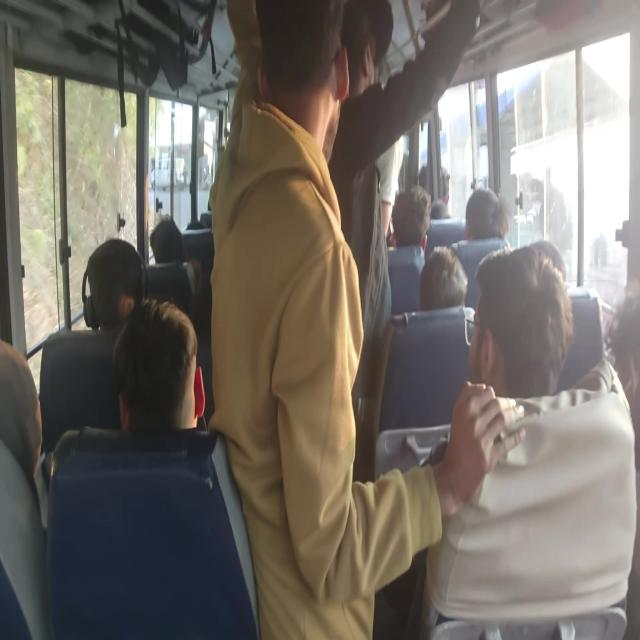person: (207, 0, 527, 638), (420, 241, 637, 638), (45, 296, 259, 638), (326, 1, 401, 483), (467, 243, 575, 400), (0, 338, 50, 638), (111, 296, 206, 432), (81, 237, 148, 332), (418, 244, 468, 310), (389, 184, 431, 250), (462, 187, 508, 241), (148, 214, 184, 264)
